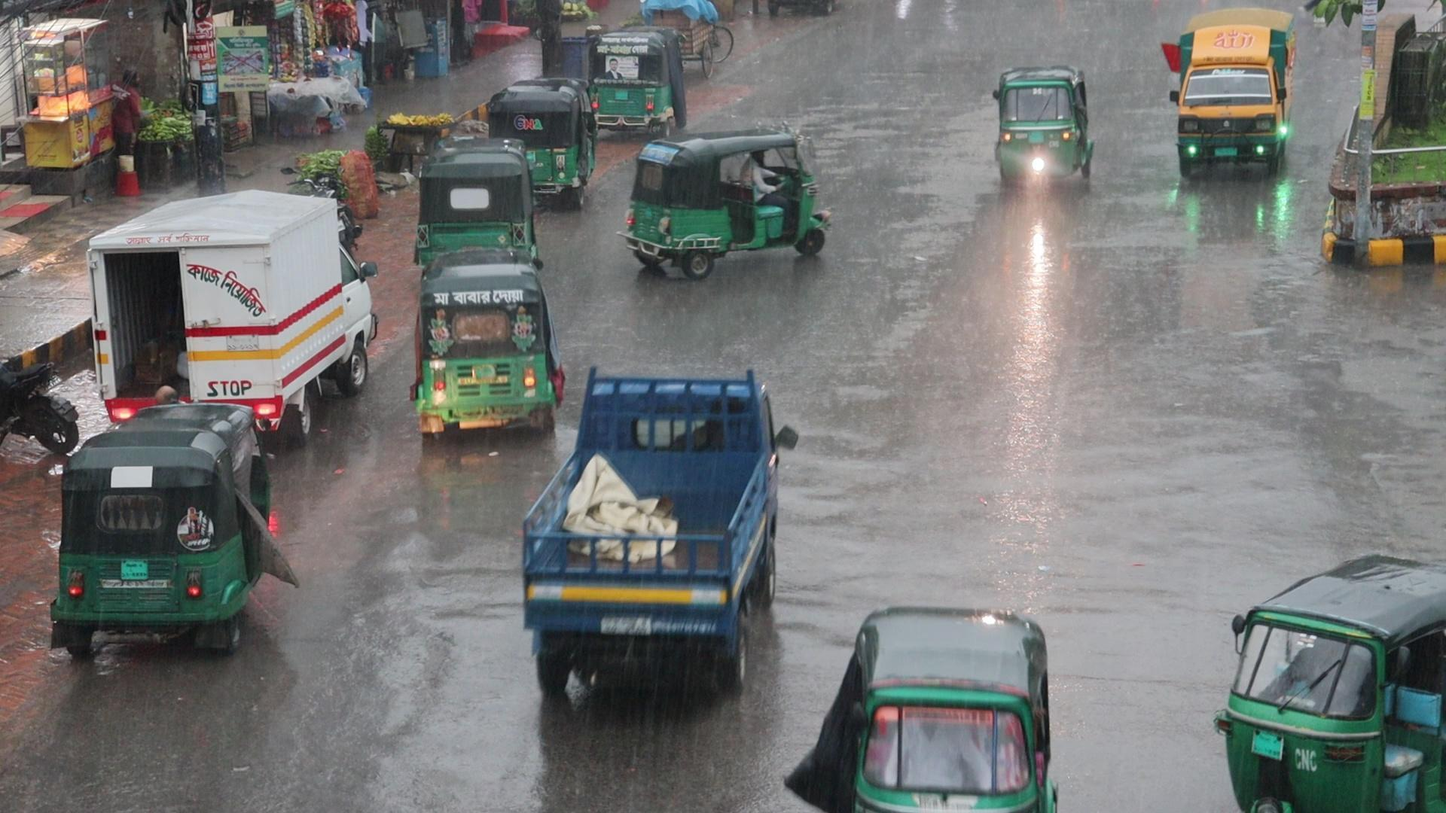Truck: (512, 360, 789, 712), (1160, 3, 1301, 183)
